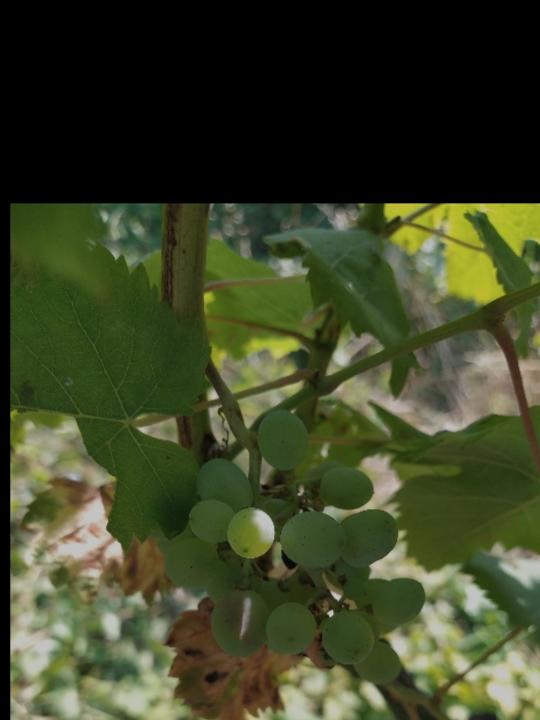grape: (153, 408, 428, 689)
